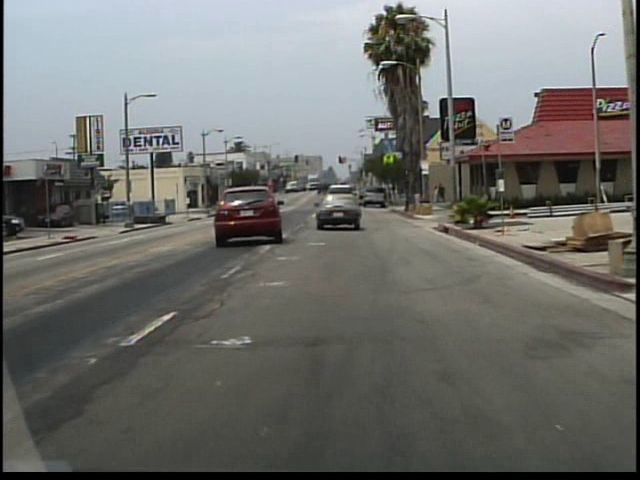person: (431, 183, 439, 205), (439, 182, 447, 203)
